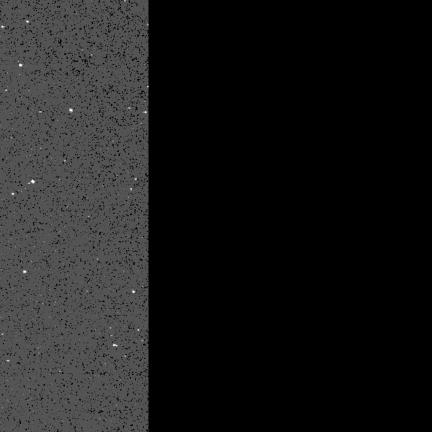blob: (23, 270, 27, 274), (19, 64, 23, 67), (133, 290, 136, 294), (69, 109, 72, 112), (12, 193, 15, 196), (27, 21, 30, 24)
